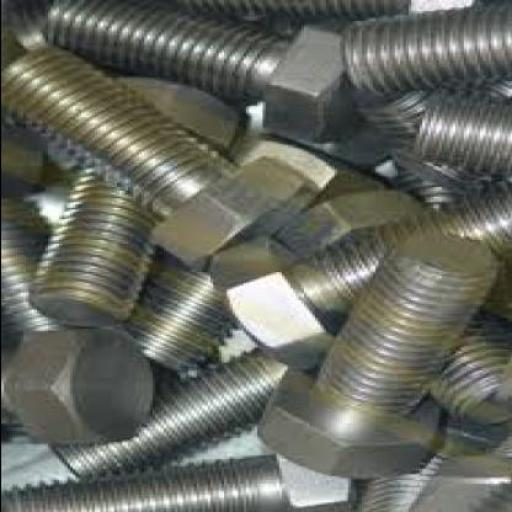metal: (124, 132, 390, 387), (17, 54, 308, 268), (253, 231, 495, 478), (206, 180, 510, 366), (270, 187, 509, 423), (27, 74, 234, 325), (38, 0, 361, 142), (44, 345, 308, 478), (2, 453, 354, 511), (2, 325, 152, 443), (339, 2, 509, 93), (1, 196, 80, 352), (405, 83, 509, 182), (352, 444, 468, 510)
